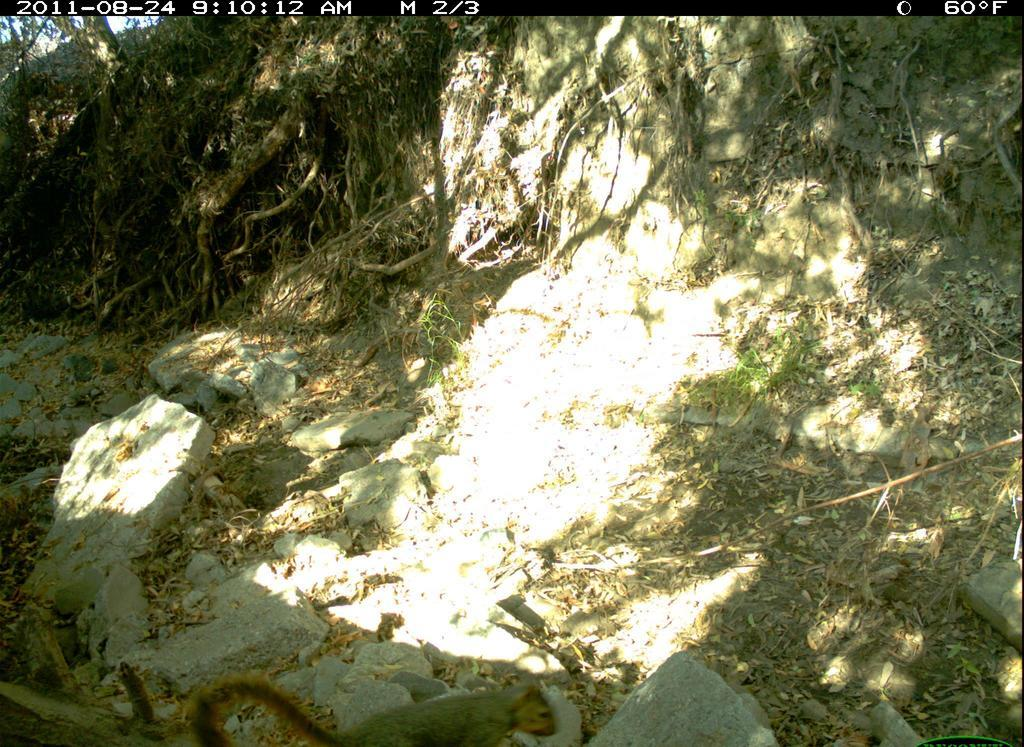squirrel: (175, 647, 571, 747)
